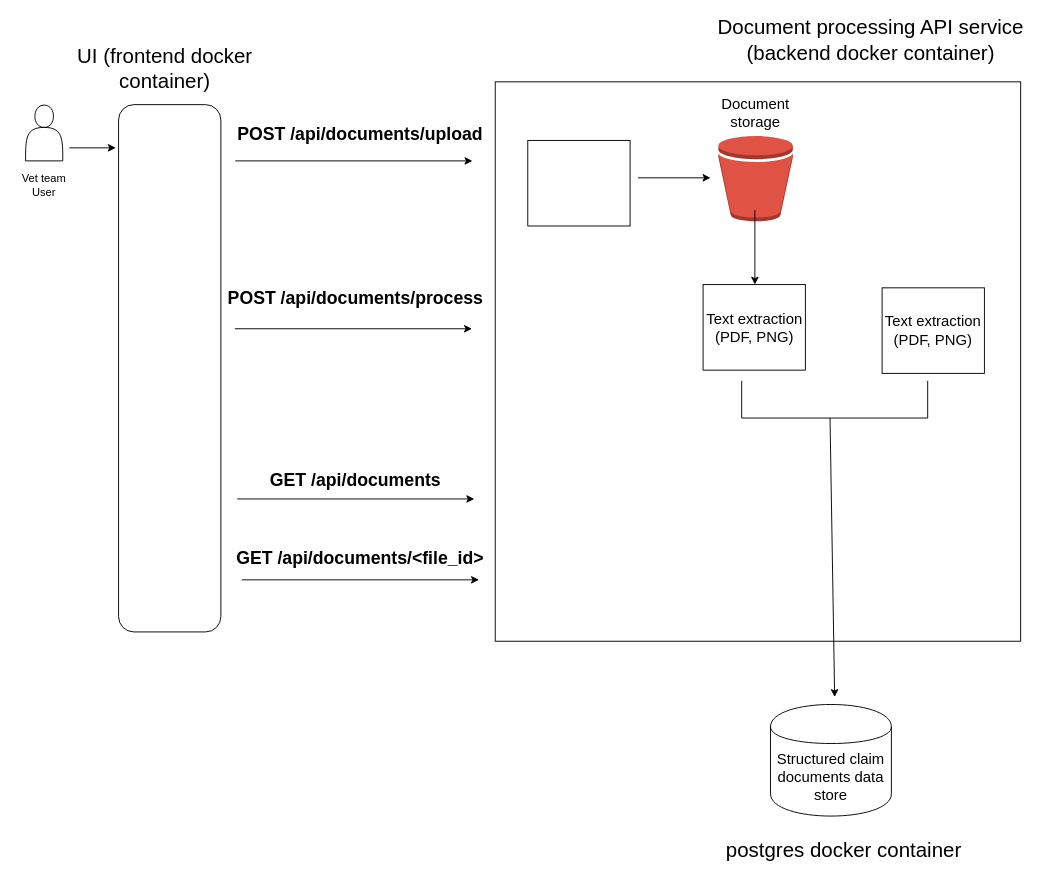
Image size: 1054x890. Some labels were removed from this diagram. Each missing label, with the centre of its shape:
"Document upload handling" goes at point (578, 183).
"Vet team UI" goes at point (169, 368).
